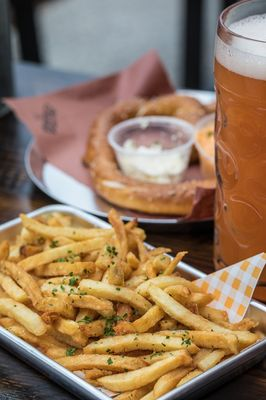pizza: (212, 0, 265, 273)
sushi: (107, 116, 195, 186)
